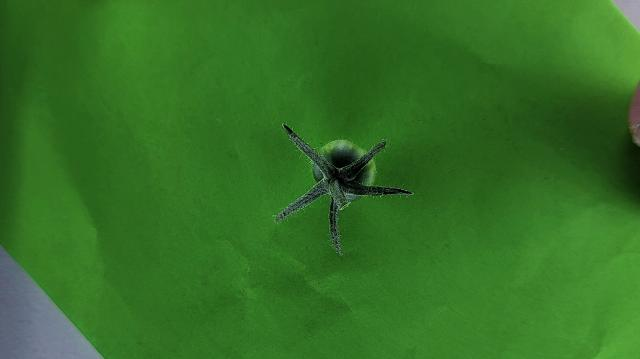Fruit Maturation: (310, 139, 378, 203)
